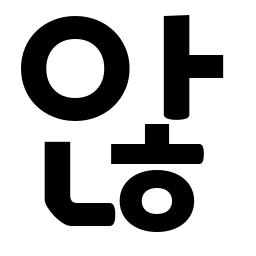Gaji: (153, 41, 210, 92)
